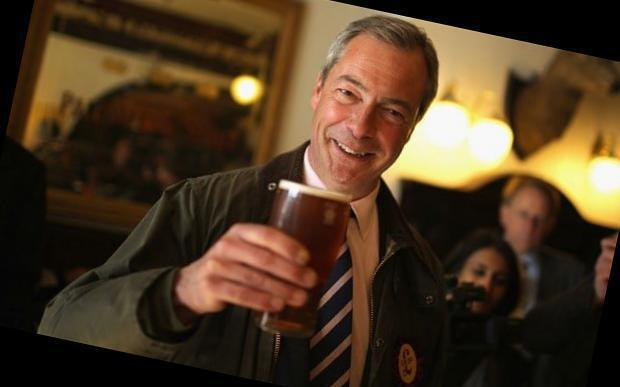Drunk: (327, 46, 410, 178)
